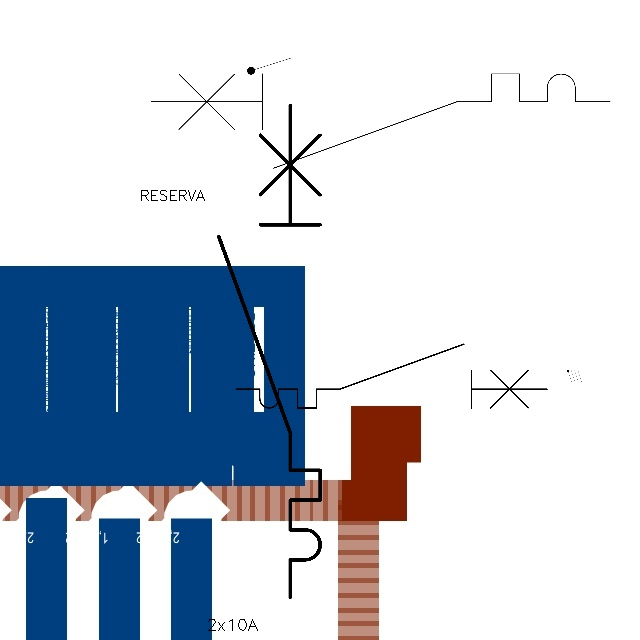interruptor_termomagnetico: (206, 92, 333, 609), (139, 62, 622, 180), (228, 336, 555, 416)
